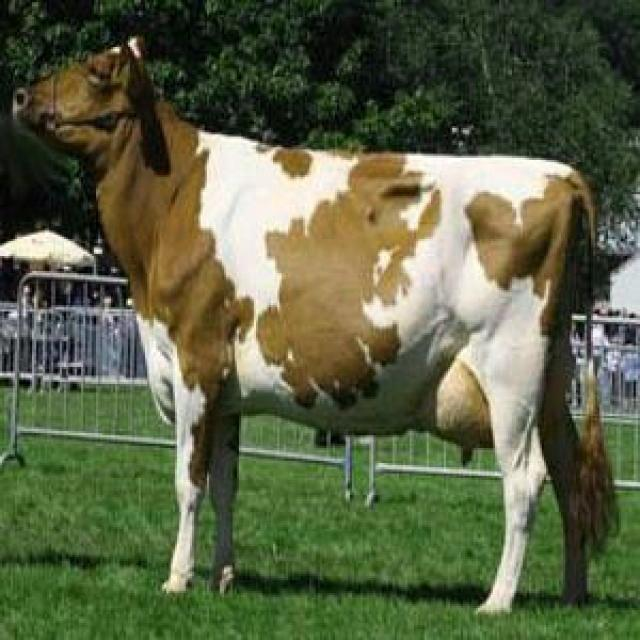cow: (25, 44, 594, 612)
